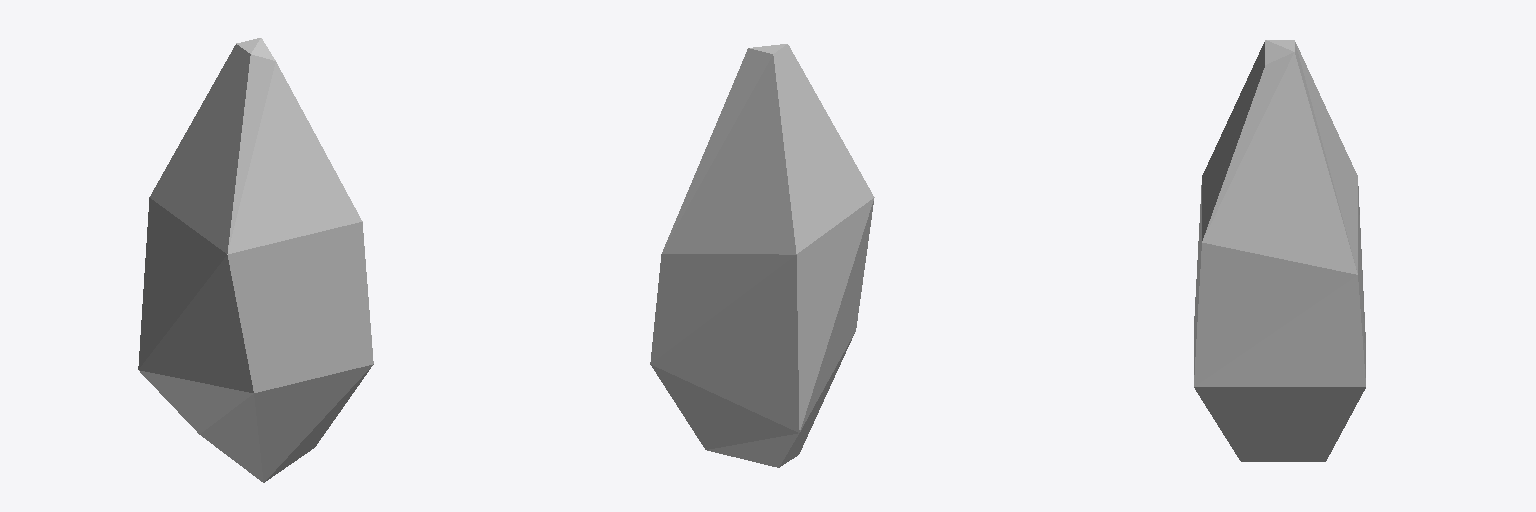
The model's file is FireMolecule_02.obj.
The picture shows the model from 3 angles: view 1: azimuth 30°, elevation 25°; view 2: azimuth 150°, elevation 25°; view 3: azimuth 270°, elevation 25°; orthographic projection.
Visible parts, largest first — view 1: FireMolecule_02; view 2: FireMolecule_02; view 3: FireMolecule_02.
Part boxes in pixels (bbox=[...]): FireMolecule_02: bbox=[138, 38, 373, 482]; FireMolecule_02: bbox=[650, 44, 874, 467]; FireMolecule_02: bbox=[1194, 40, 1365, 461].
Size of the model in its own units: 1.1 by 2.97 by 1.1.